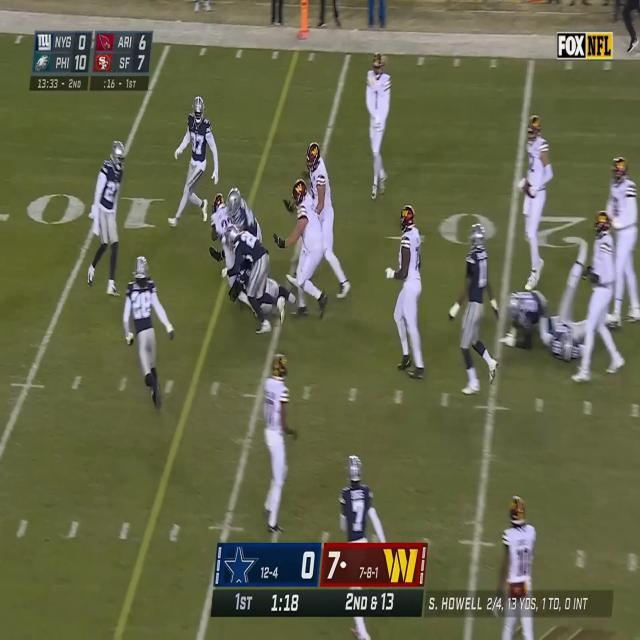players: (380, 206, 432, 391), (577, 215, 628, 395), (123, 253, 177, 417), (301, 132, 352, 301), (450, 212, 495, 402), (284, 172, 335, 334), (338, 450, 380, 640), (499, 492, 551, 640), (228, 221, 290, 341), (255, 351, 294, 532), (168, 98, 222, 228), (603, 149, 640, 331), (88, 133, 125, 300), (360, 46, 398, 205), (518, 105, 551, 288), (207, 187, 250, 323), (550, 248, 590, 373), (506, 261, 548, 352)
